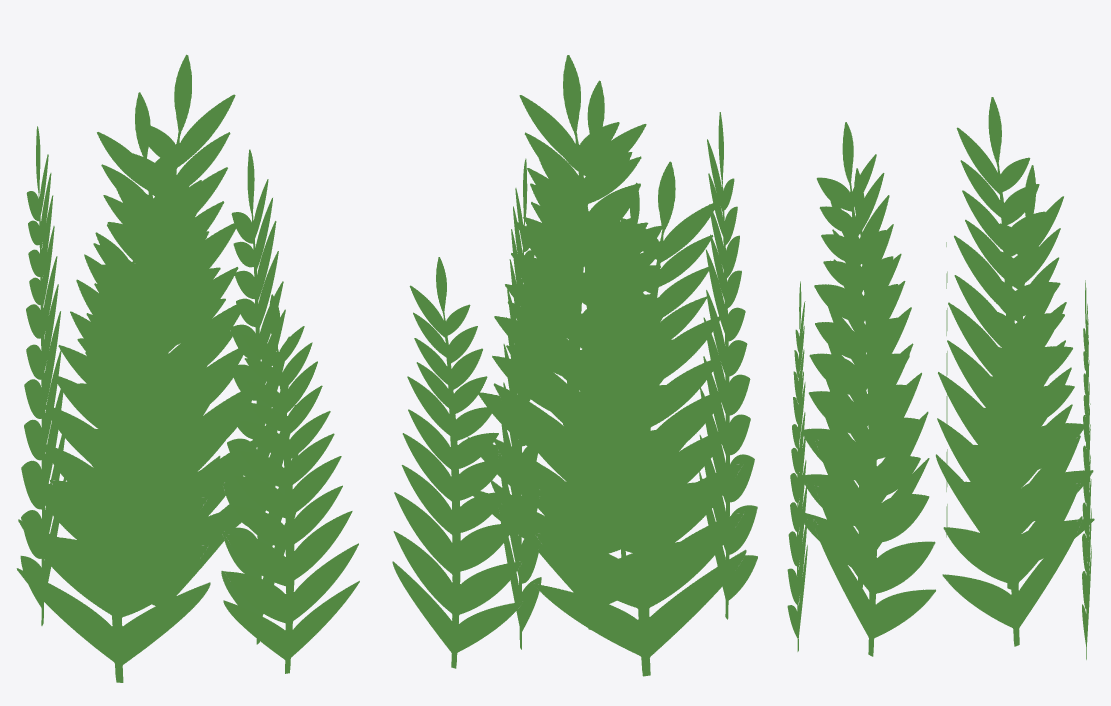
File: Plant_05.fbx
3 renders of one model, left to right at view 1: azimuth 30°, elevation 25°; view 2: azimuth 150°, elevation 25°; view 3: azimuth 270°, elevation 25°, orthographic. The views are drawn at different scales.
Visible parts, largest first — view 1: Plant_05_LOD0; view 2: Plant_05_LOD0; view 3: Plant_05_LOD0.
Boxes of the visible parts, box(x1,y1,x2,y2) form: Plant_05_LOD0: box(16, 54, 359, 682); Plant_05_LOD0: box(392, 55, 757, 676); Plant_05_LOD0: box(787, 97, 1094, 659).
Size of what is drawn, in the model's own units: 0.2577 by 0.4981 by 0.2488.
